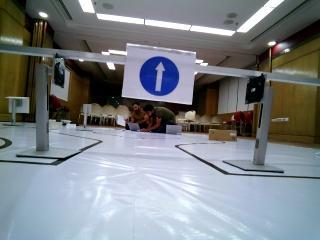straight: (127, 45, 190, 105)
